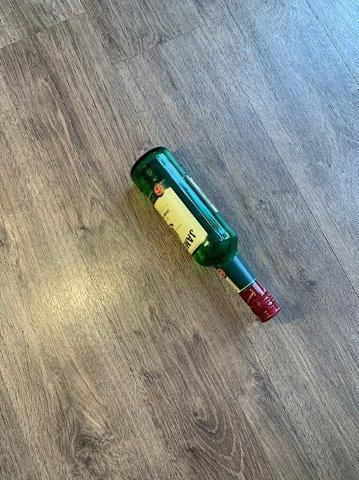botolkaca: (131, 148, 282, 322)
